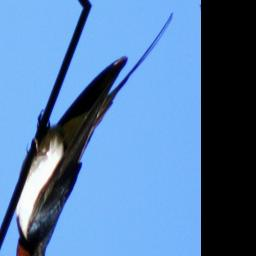Swallow: (0, 9, 190, 256)
